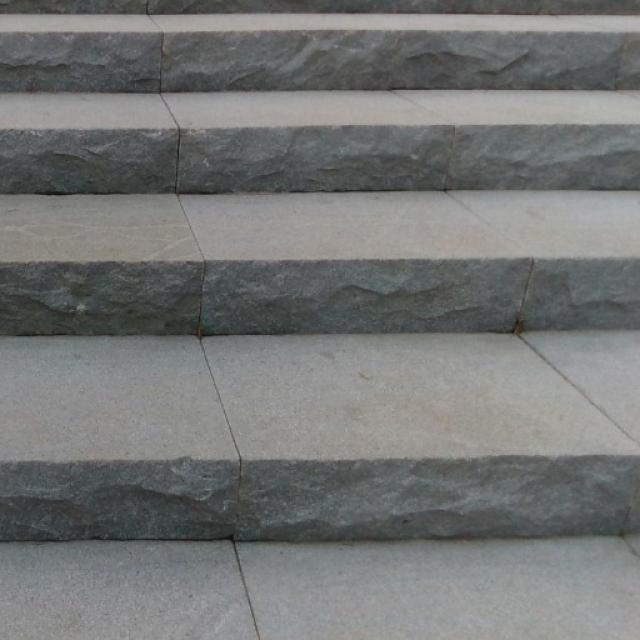Stairs: (0, 0, 639, 544)
